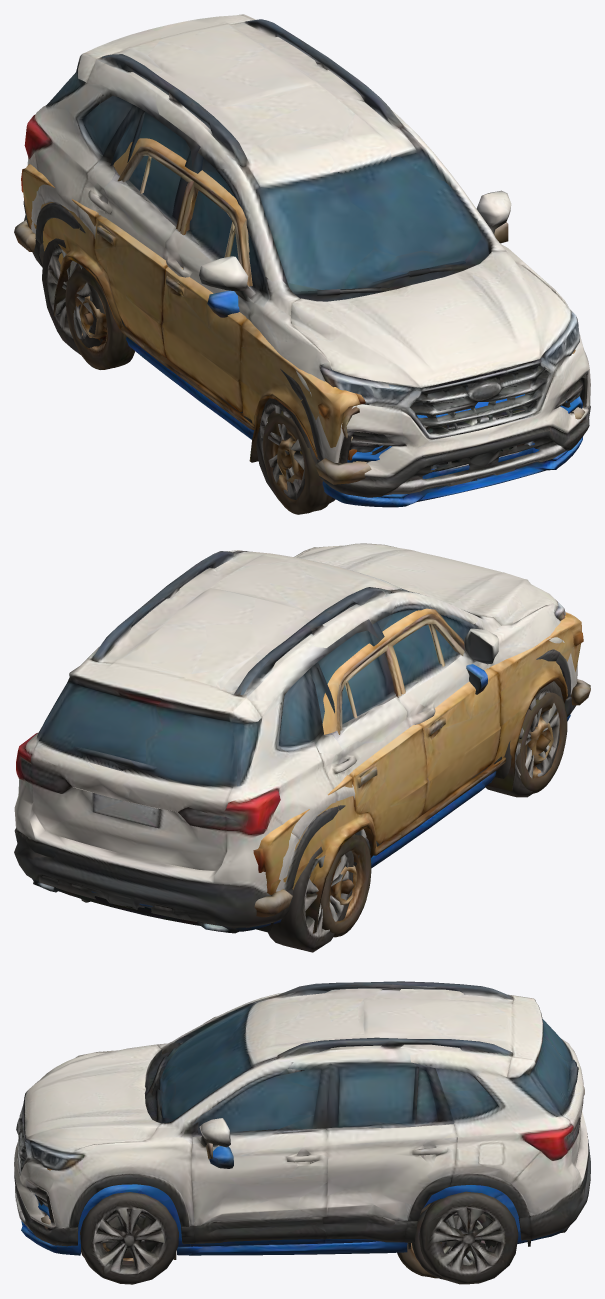
File: pack_vehicles.glb
The picture shows the model from 3 angles, top to bottom: view 1: azimuth 30°, elevation 25°; view 2: azimuth 150°, elevation 25°; view 3: azimuth 270°, elevation 25°; orthographic projection. The views are drawn at different scales.
Visible parts, largest first — view 1: car_suv, car_old, car_blue; view 2: car_suv, car_old, car_blue; view 3: car_suv, car_blue, car_old.
Part boxes in pixels (x1=…): car_suv: x1=23, y1=14, x2=590, y2=503; car_old: x1=14, y1=138, x2=585, y2=514; car_blue: x1=126, y1=290, x2=582, y2=507; car_suv: x1=14, y1=543, x2=577, y2=952; car_old: x1=253, y1=608, x2=590, y2=937; car_blue: x1=32, y1=664, x2=570, y2=933; car_suv: x1=14, y1=981, x2=590, y2=1284; car_blue: x1=21, y1=1146, x2=569, y2=1279; car_old: x1=41, y1=1142, x2=469, y2=1278.
Size of the model in its own units: 2.31 by 2.01 by 4.7.
3 materials, 3 textured.
